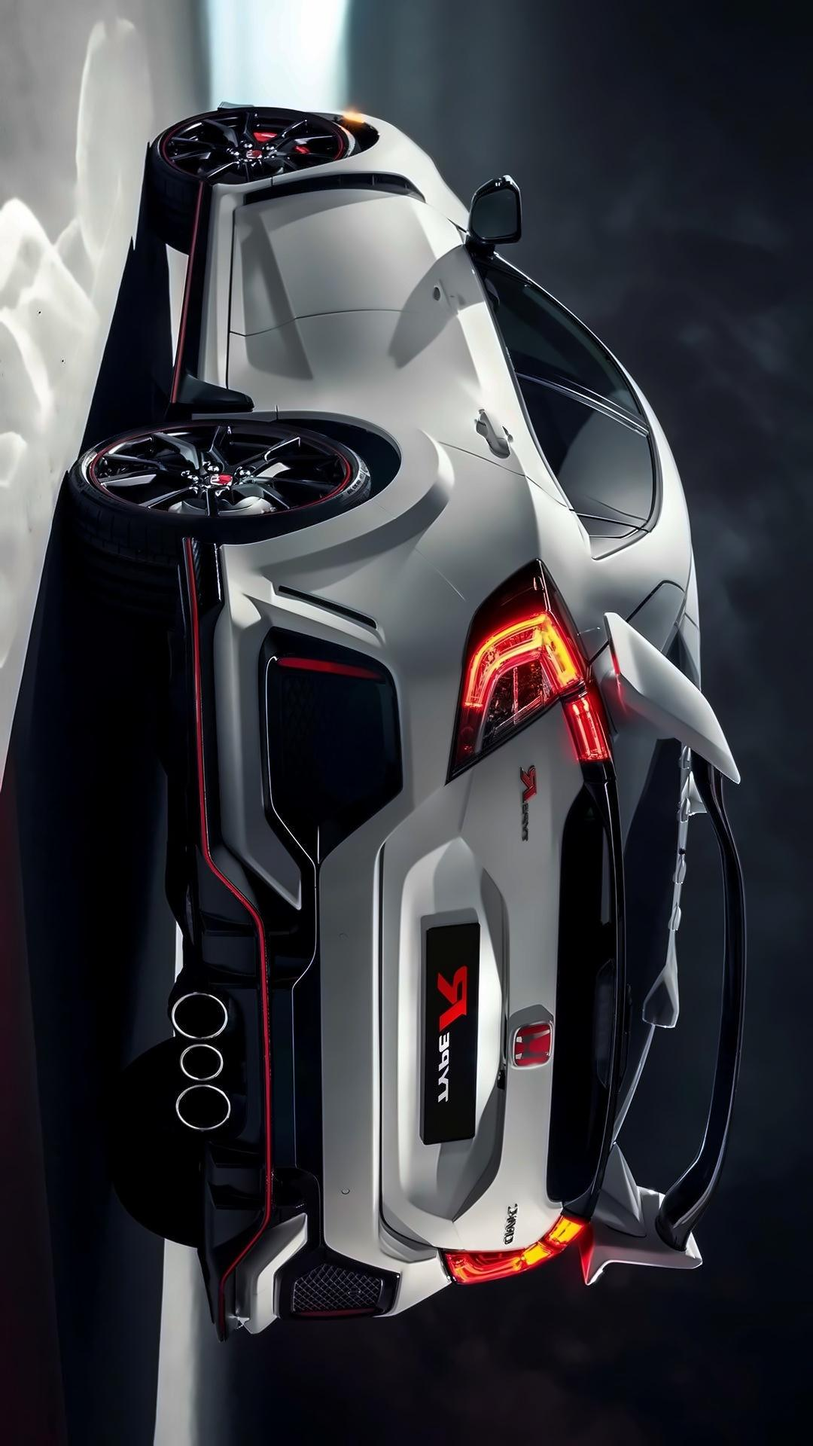Car boot: (301, 628, 665, 1300)
Fender - -F-L-: (221, 121, 483, 213)
Fender - -R-L-: (236, 443, 631, 616)
Passenger-s door - -F-L-: (229, 181, 631, 388)
Passenger-s door - -R-L-: (219, 329, 674, 527)
Rear bumper: (153, 525, 439, 1348)
Rear light - -L-: (439, 543, 622, 787)
Rear light - -R-: (434, 1180, 597, 1294)
Side bumper - -L-: (166, 156, 259, 420)
Side mirror - -L-: (462, 166, 542, 263)
